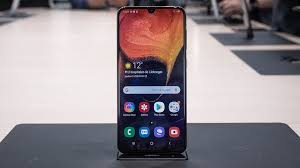samsung: (115, 3, 189, 158)
